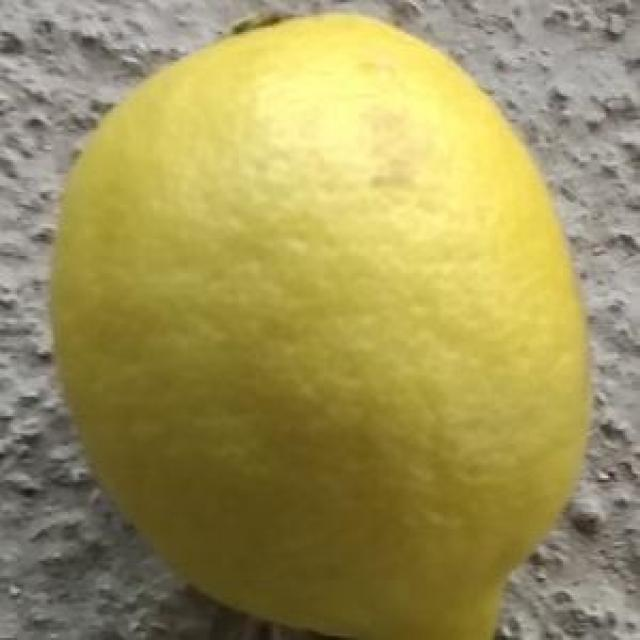lemon: (47, 13, 590, 640)
